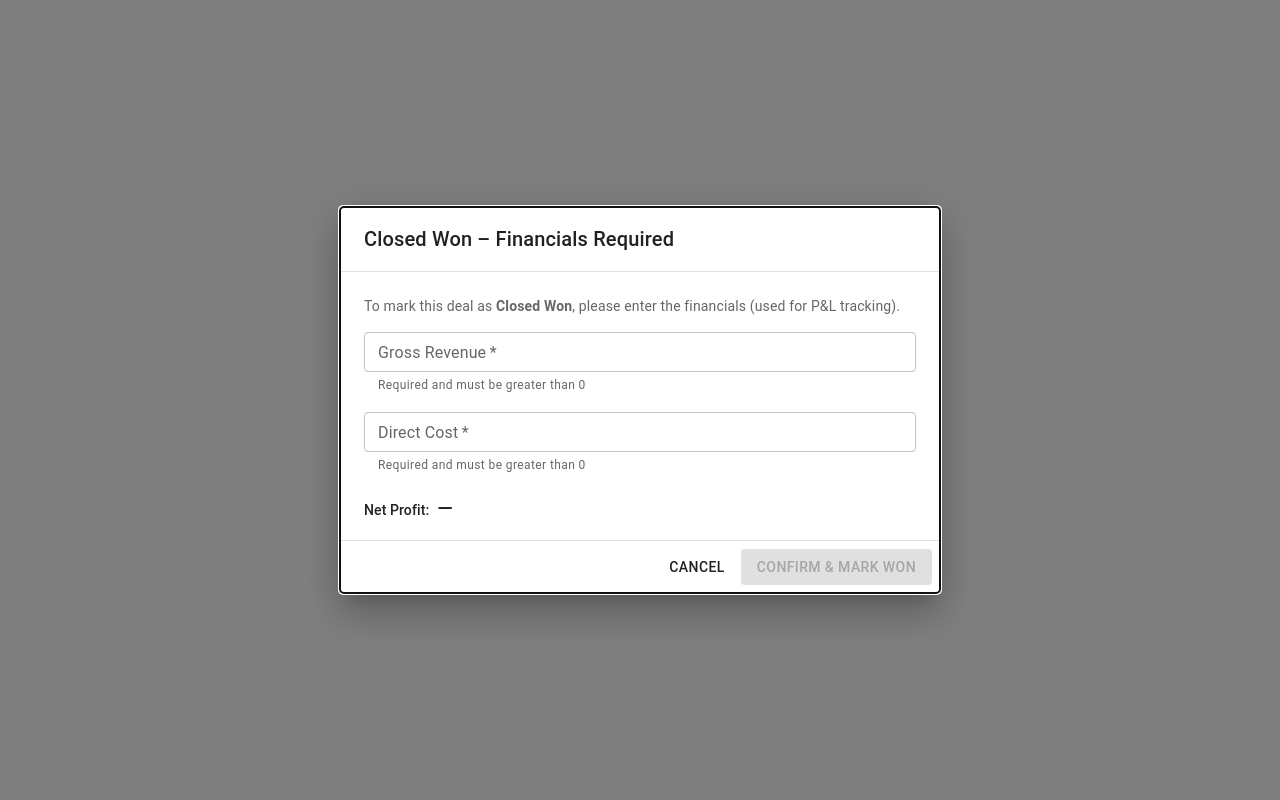
Test: ClosedWonModal › computes negative net profit correctly
The width and height of the screenshot is (1280, 800).
Type "100" into the number field labelled "Gross Revenue *" at (640, 352), box top-left (364, 332), bottom-right (916, 372)
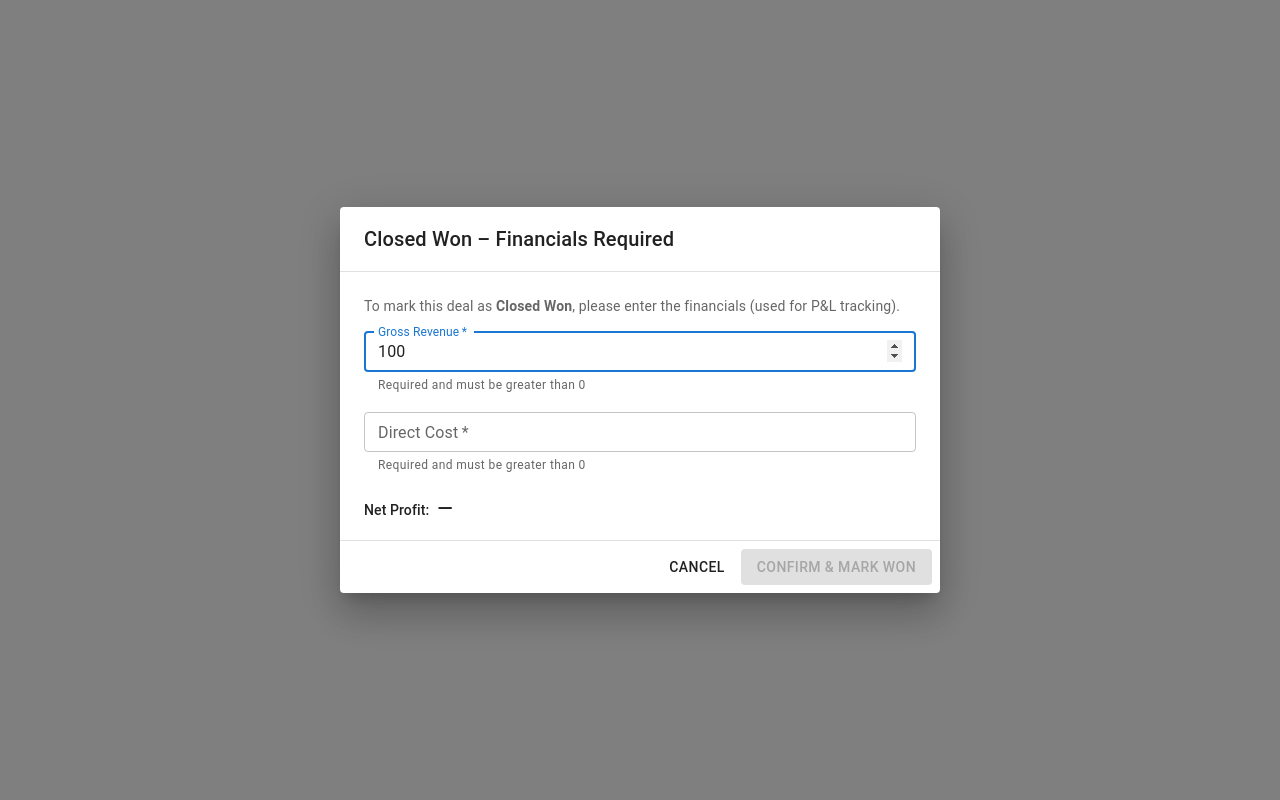
Type "300" into the number field labelled "Direct Cost *" at (640, 432), box top-left (364, 412), bottom-right (916, 452)
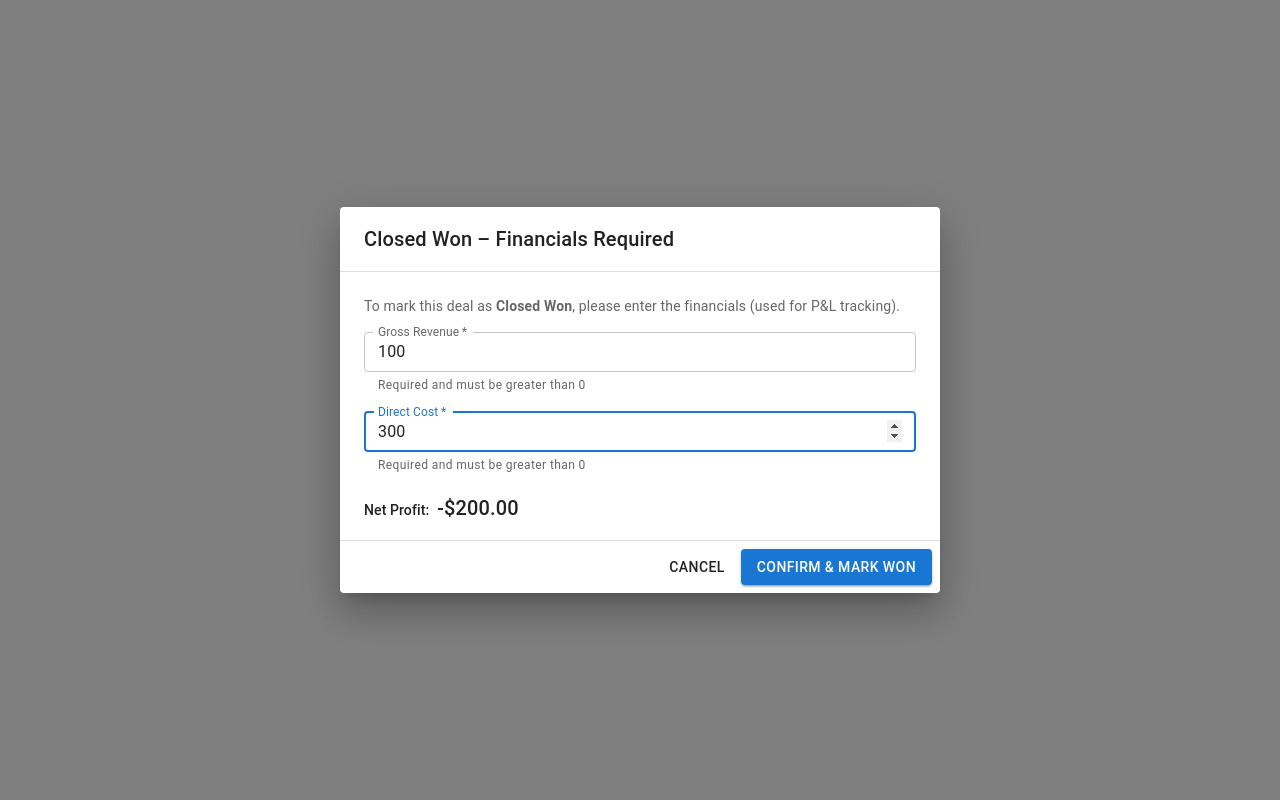
Expected: the heading "-$200.00" is shown, top-left (437, 492), bottom-right (519, 524)
